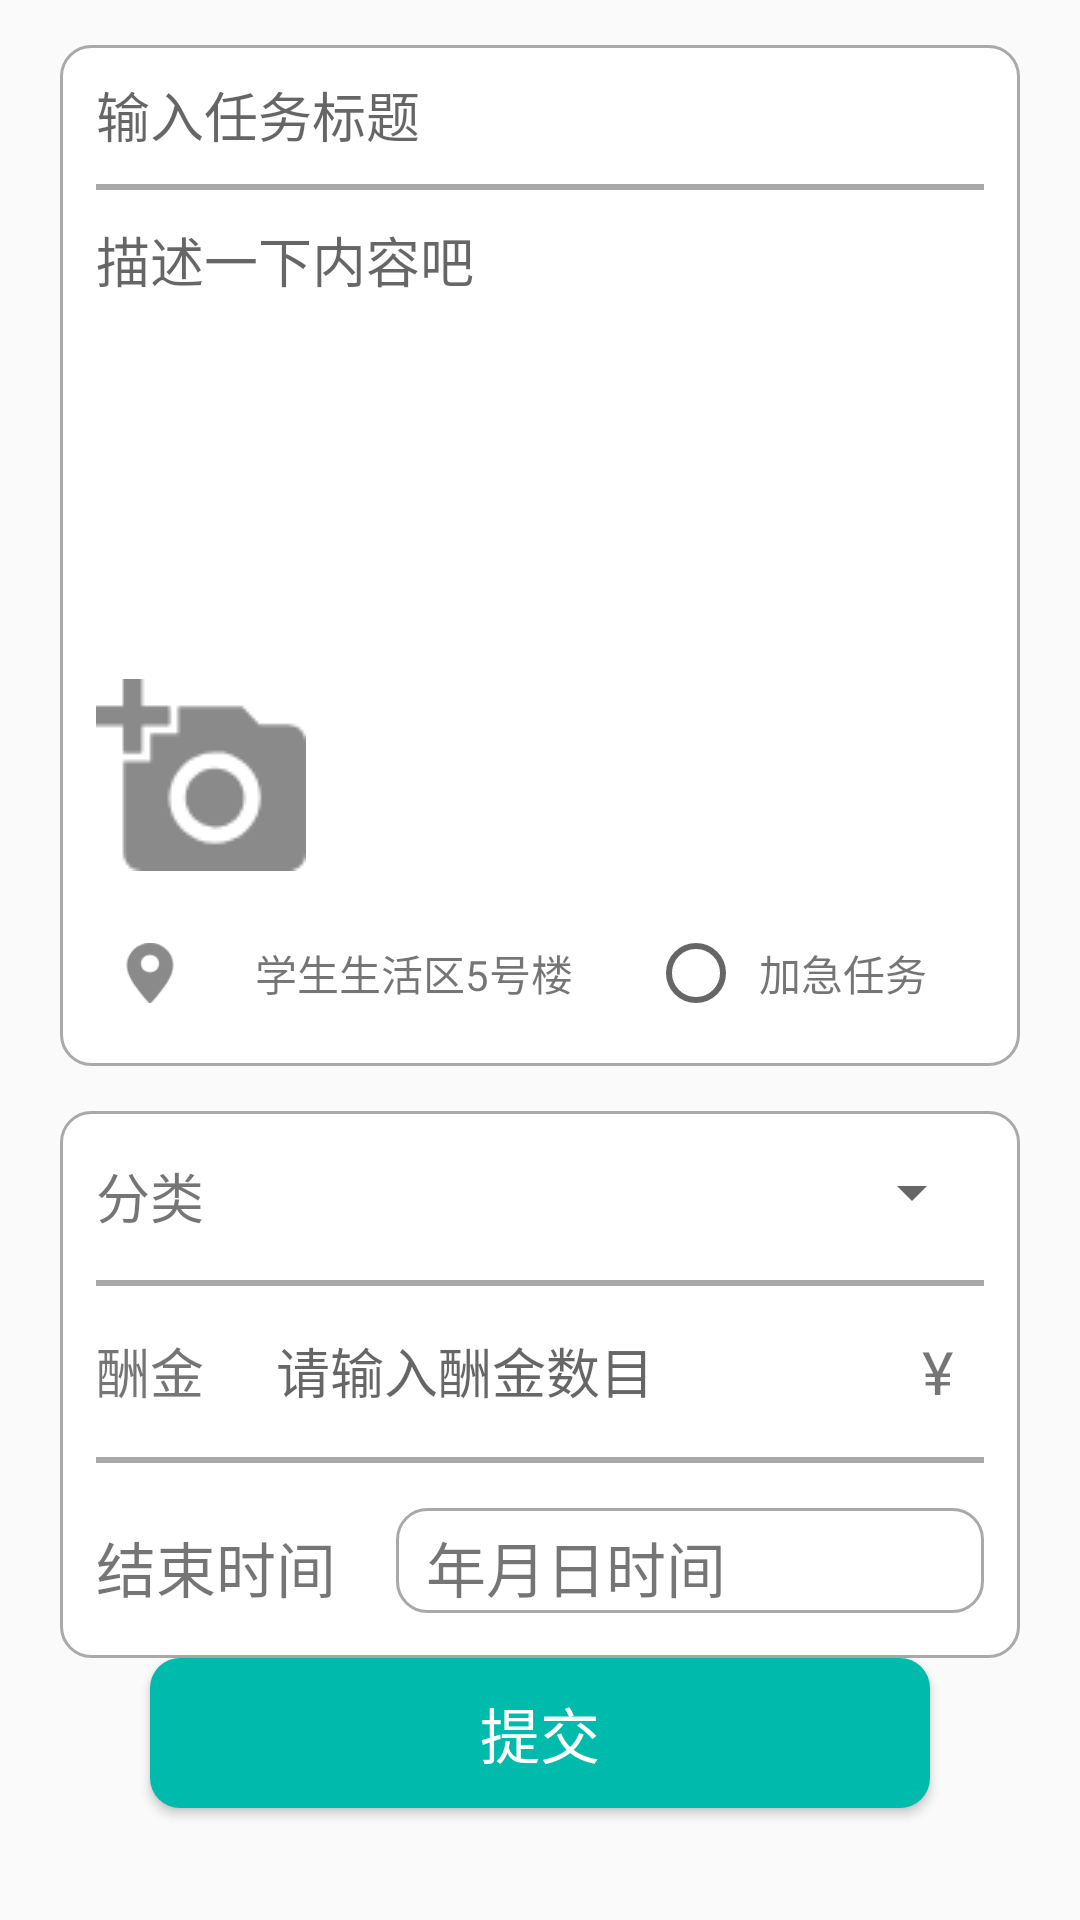

Named icons in this screenshot (1080*1920) and their centers, [x,y]:
camera: [201,775]
location: [150,973]
